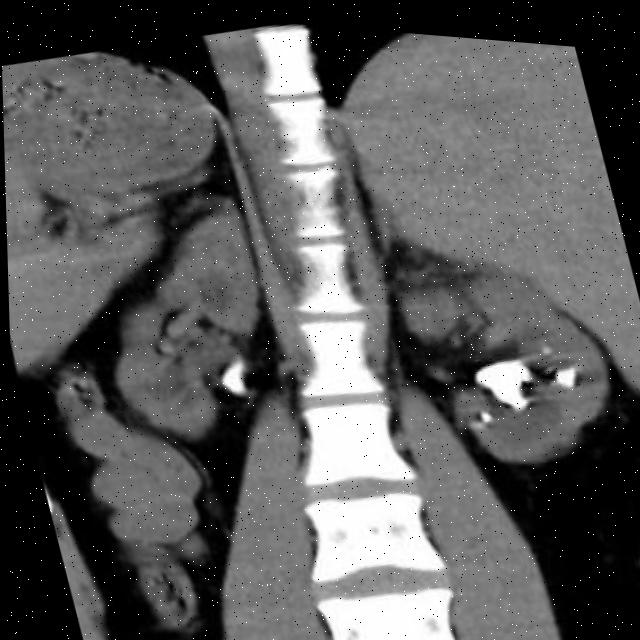Tas_Var: (462, 338, 543, 415), (209, 348, 251, 403), (541, 345, 582, 391), (470, 395, 494, 424), (533, 331, 553, 351)
